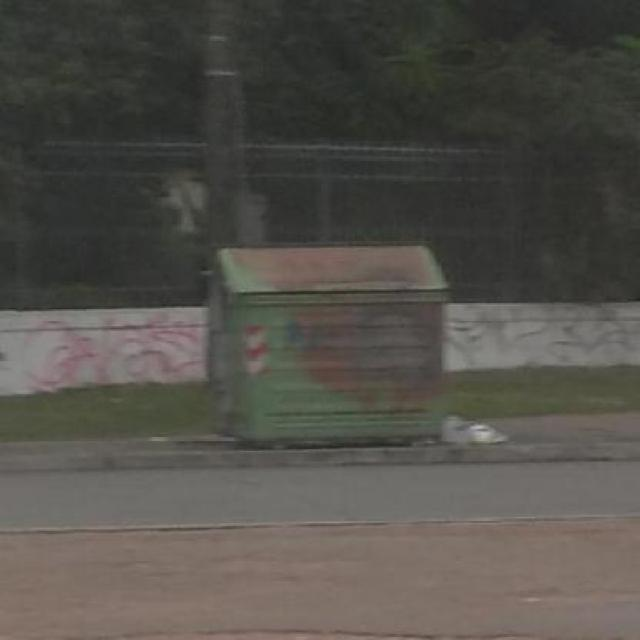garbage: (434, 409, 518, 464)
